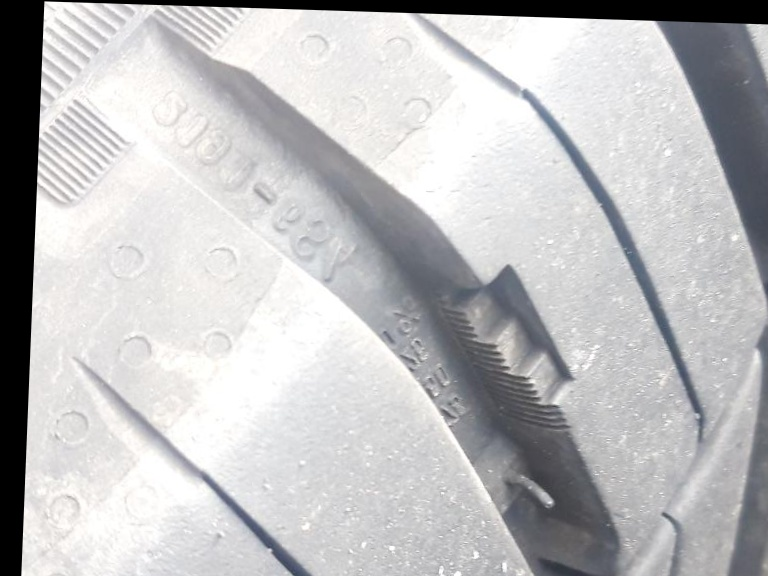temoin:90: (419, 255, 591, 440)
